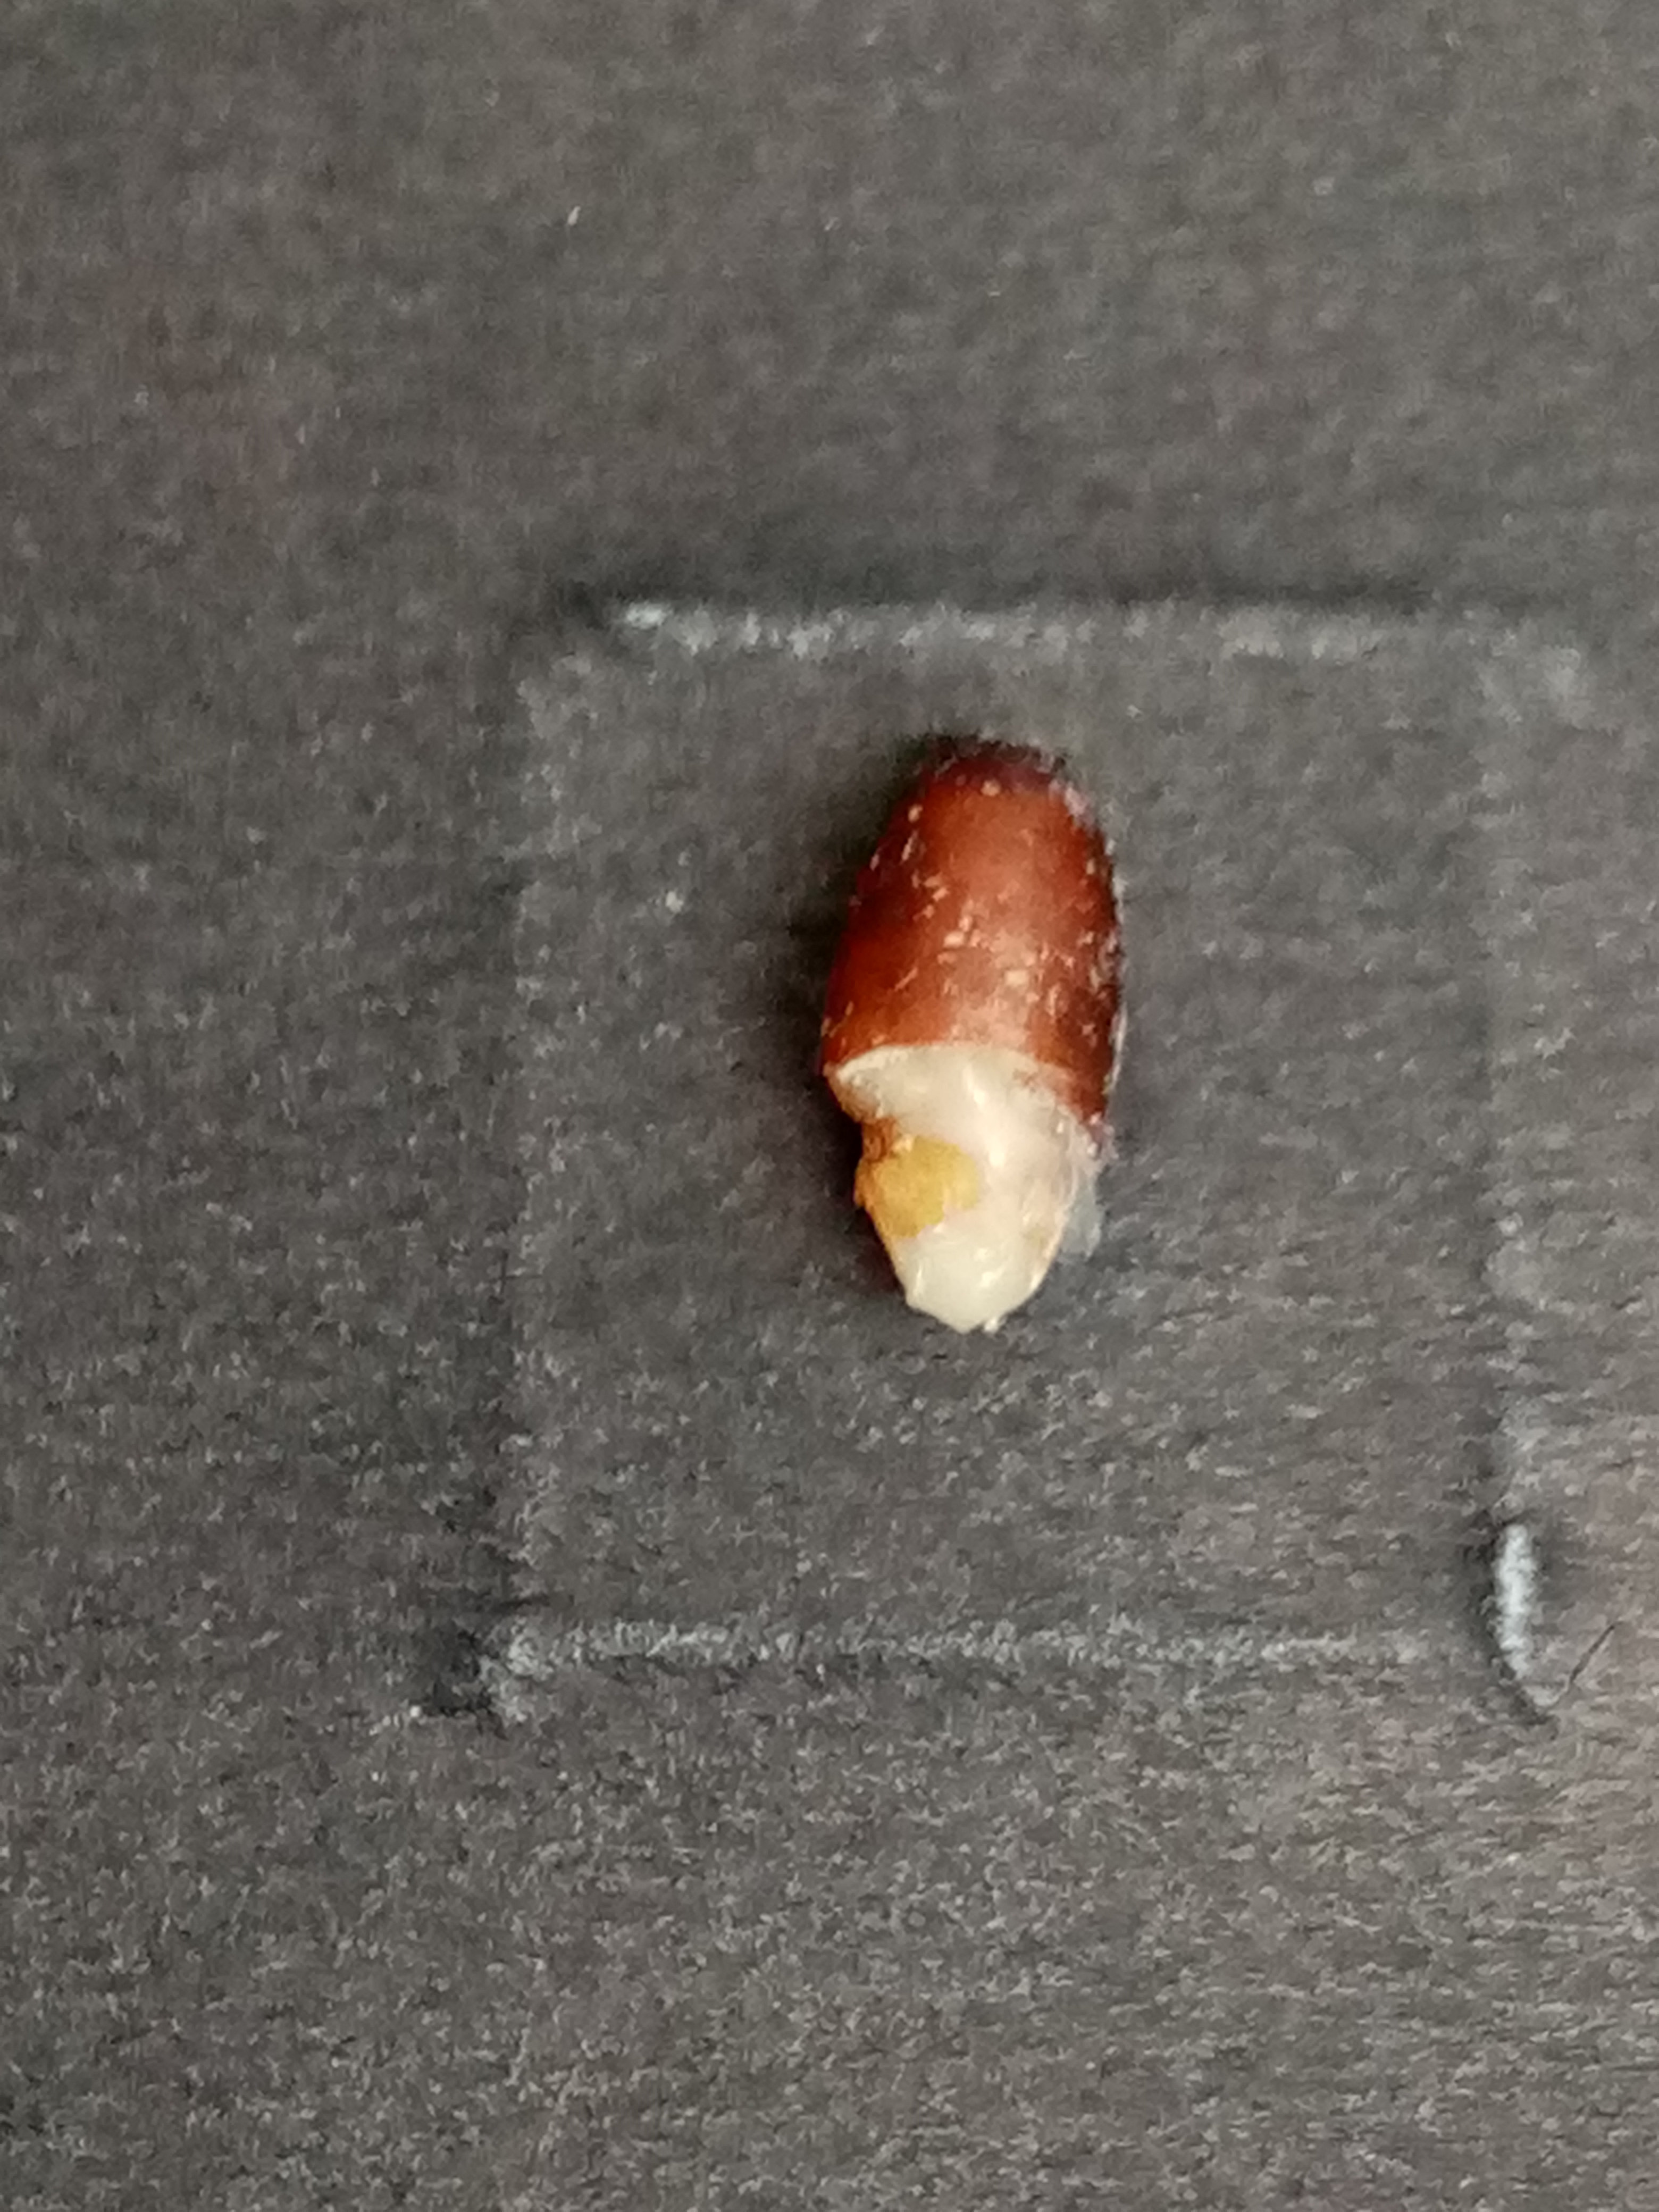pupa: (847, 1097, 1098, 1339)
